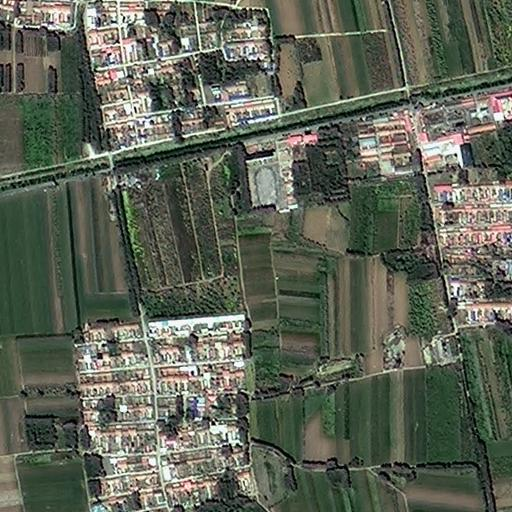school: (243, 137, 284, 212)
